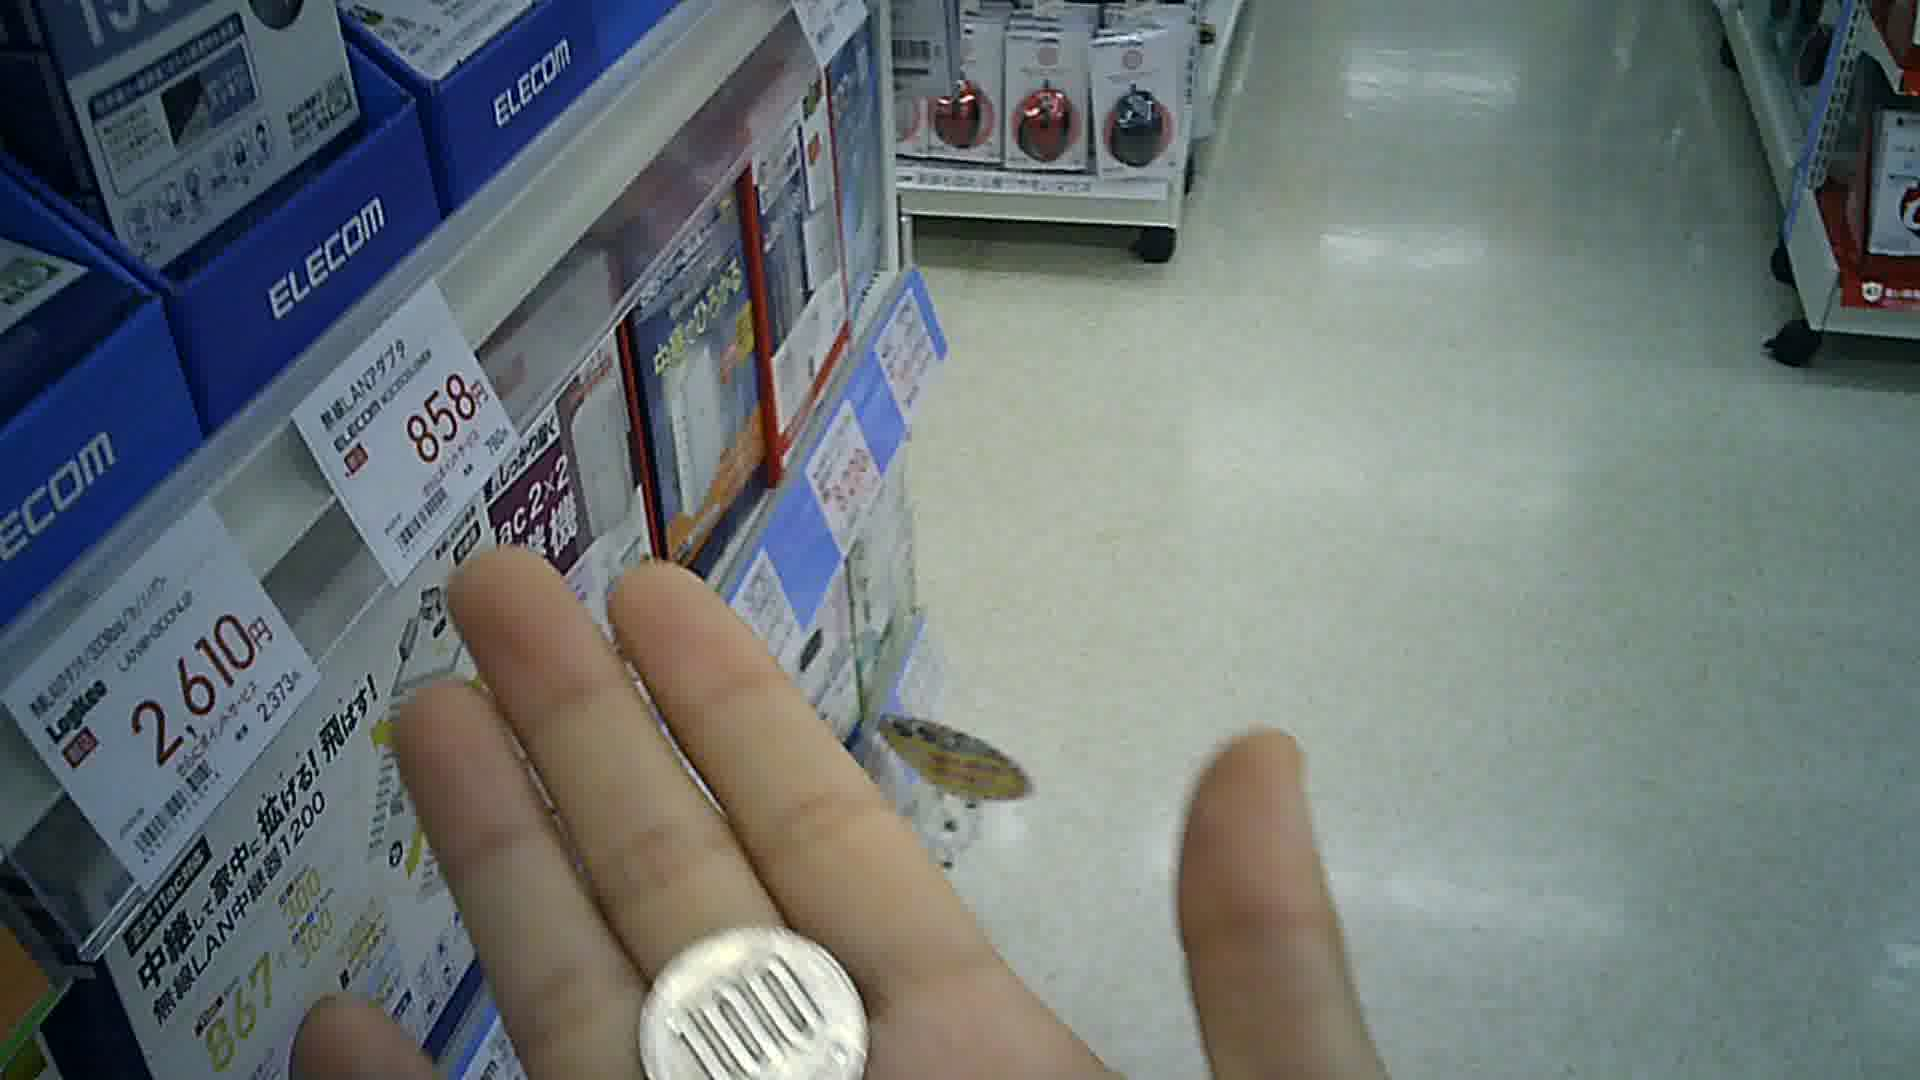100 Yen: (642, 923, 876, 1068)
